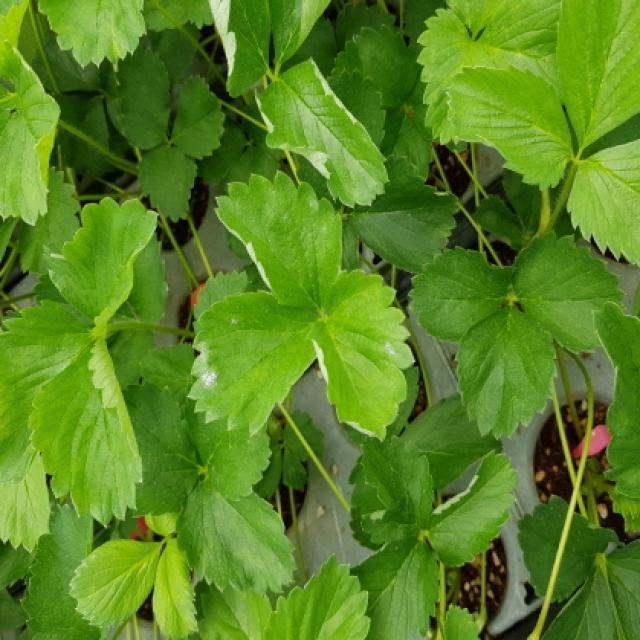powdery_mildew_leaf: (255, 56, 391, 208), (186, 290, 322, 436), (307, 269, 416, 441), (212, 170, 345, 309), (428, 450, 520, 568), (206, 0, 272, 97)
